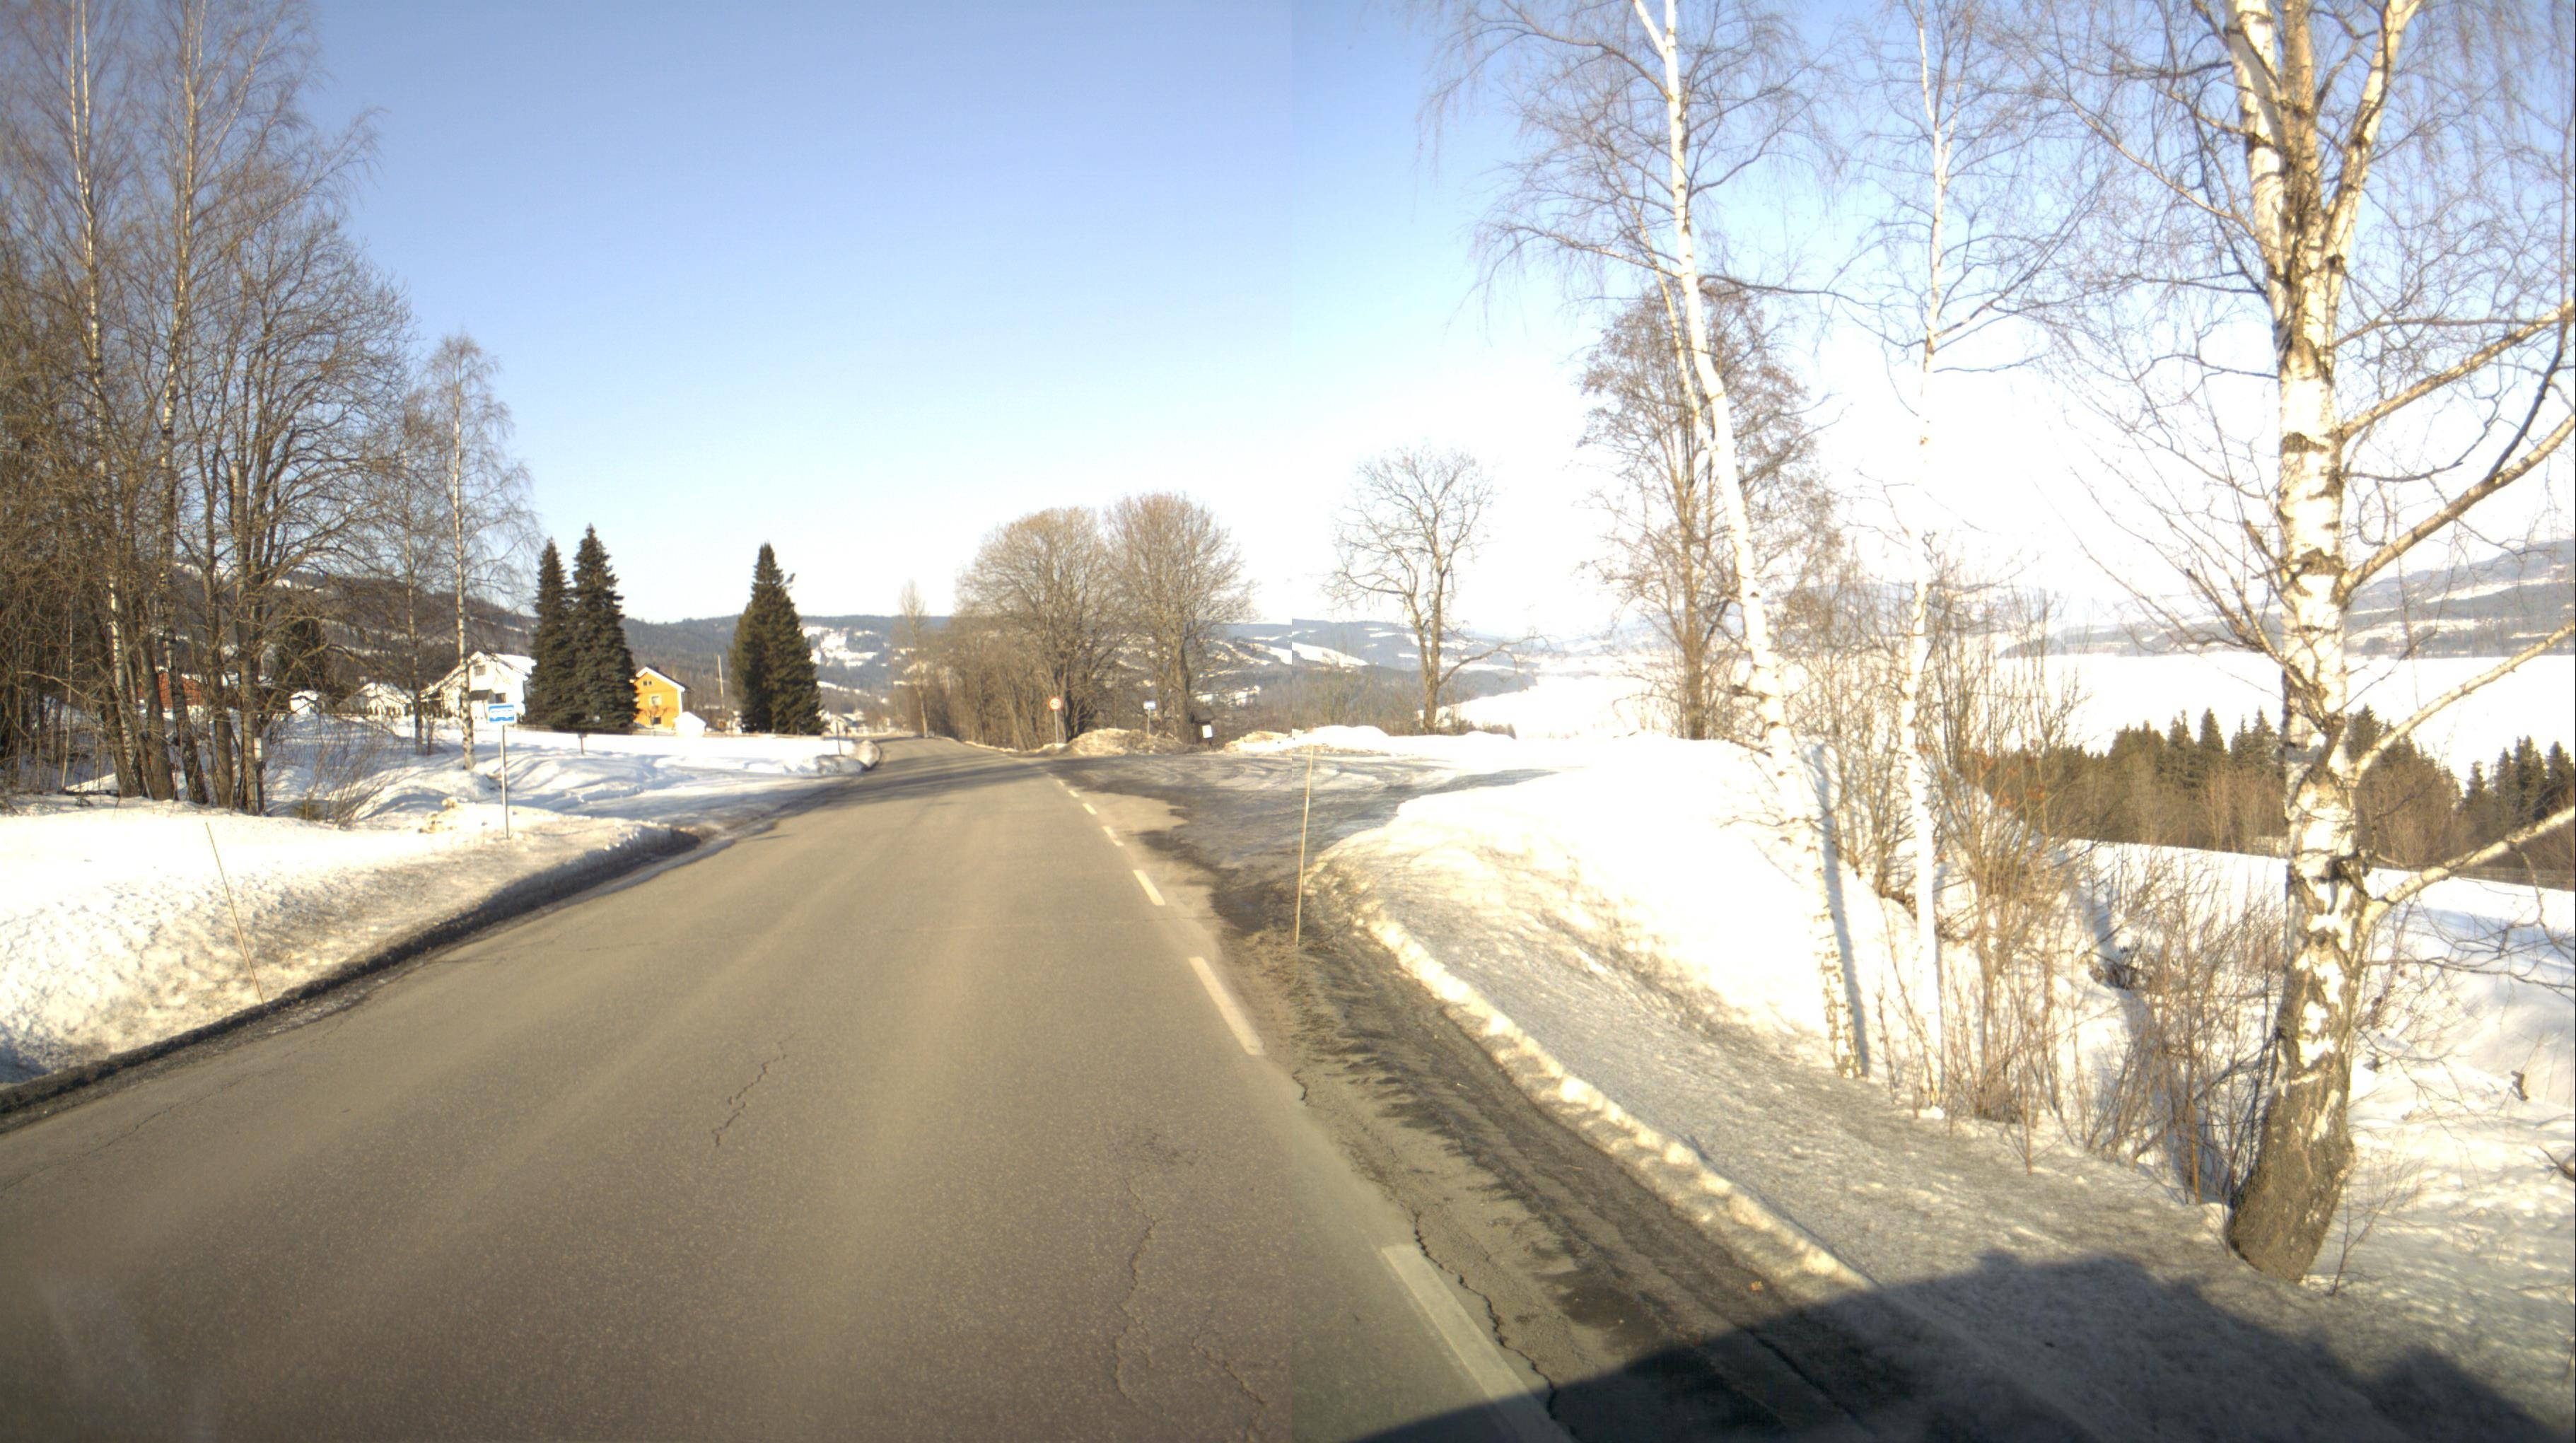Kritiska Plaisa: (1112, 1205, 1166, 1413), (1189, 1325, 1264, 1404), (712, 1102, 745, 1147), (733, 1060, 768, 1099), (1123, 1164, 1148, 1204)
